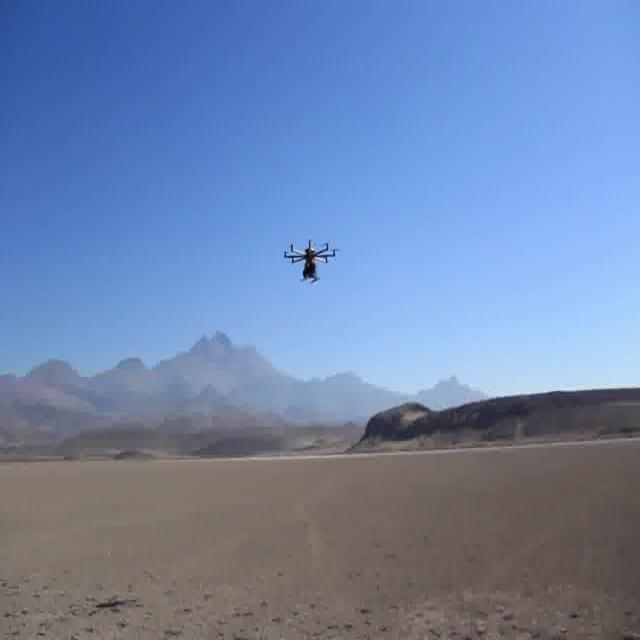Drone_FW: (283, 238, 339, 284)
